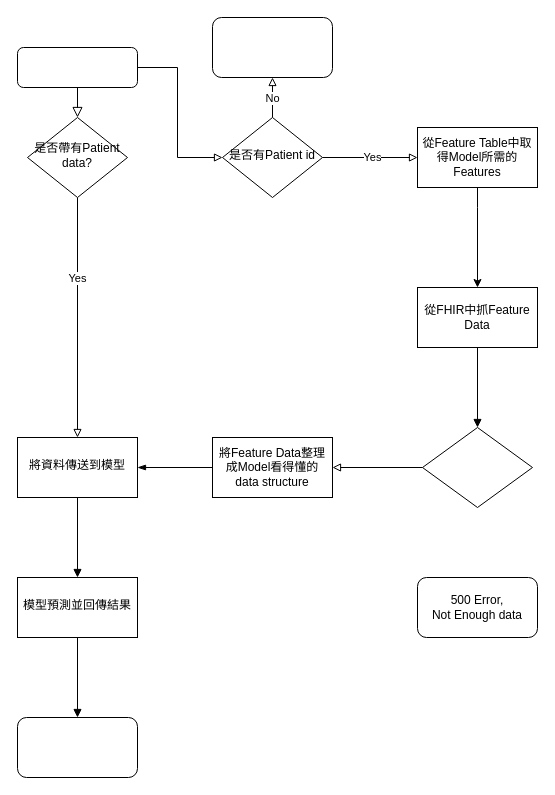
Some shapes in this 555 by 795 pixel diagram are drawn without their labels. The centre of each missing label's shape, as x and y in pixels:
400 Error, No Patient ID: the point at 272,47
將模型: the point at 77,747
資料是否都有在FHIR Server中？: the point at 477,467
預測的api request: the point at 77,67
